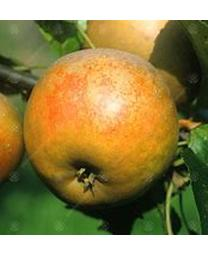apple: (22, 48, 179, 210)
